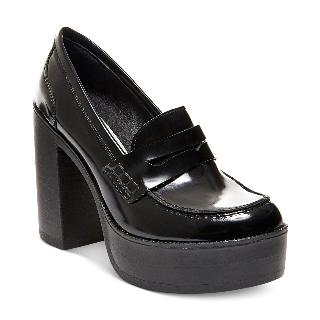loafers: (29, 23, 290, 297)
